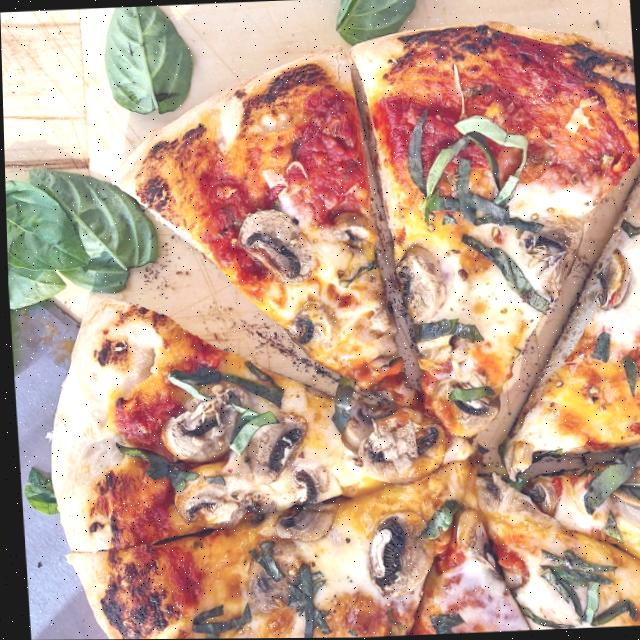basil: (396, 99, 539, 245), (506, 541, 633, 631), (162, 350, 287, 413), (456, 235, 549, 316), (573, 431, 640, 537), (106, 438, 203, 491), (277, 561, 332, 638), (584, 328, 636, 395), (225, 393, 278, 456), (182, 598, 246, 639), (437, 380, 493, 415), (328, 371, 354, 435), (424, 603, 473, 635), (414, 504, 454, 542)
mushrooms: (224, 203, 317, 285), (362, 507, 439, 605), (356, 412, 447, 493), (154, 385, 243, 464), (517, 208, 584, 294), (241, 403, 304, 493), (237, 543, 307, 623), (384, 247, 452, 324), (170, 464, 260, 521), (471, 467, 528, 533), (591, 243, 632, 322), (434, 384, 498, 433), (271, 502, 329, 550), (450, 512, 493, 575), (272, 501, 334, 544), (320, 207, 369, 261), (280, 306, 341, 348), (405, 330, 457, 369), (609, 454, 640, 518), (291, 465, 334, 508), (350, 299, 393, 332), (501, 438, 531, 477), (360, 347, 398, 369)
pizza: (14, 14, 640, 640)
